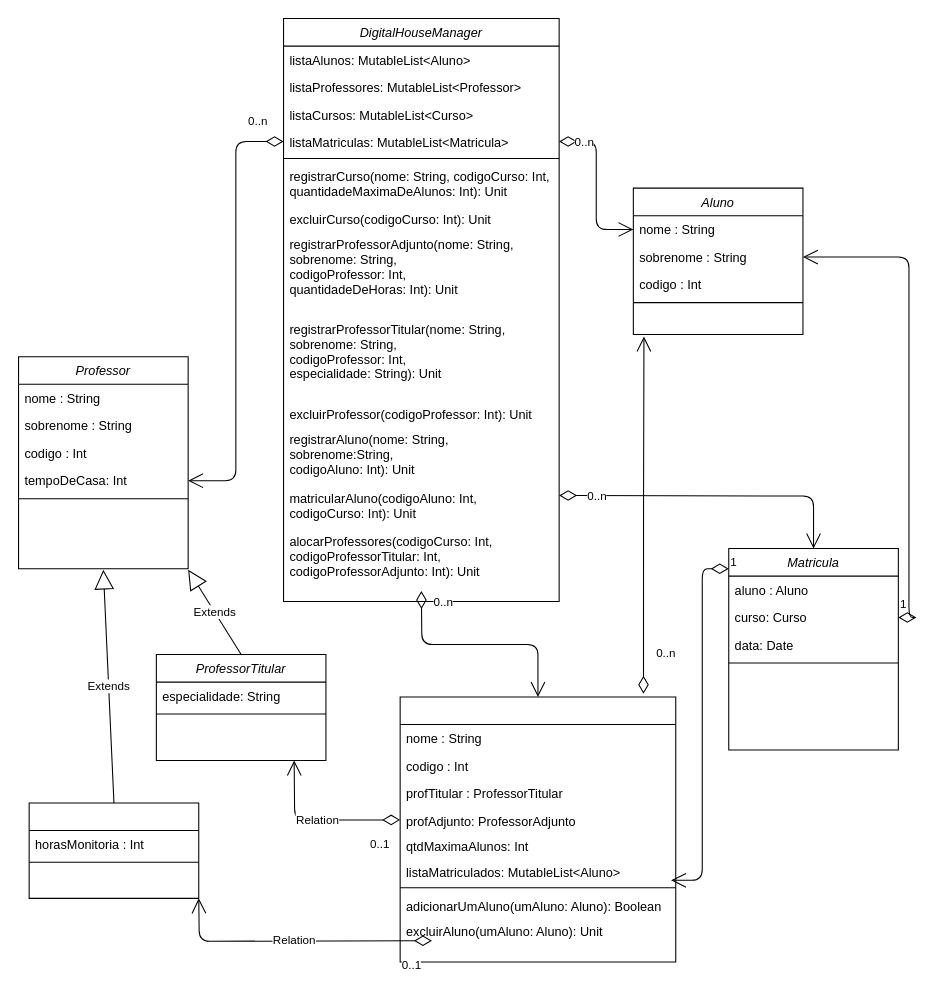
Some shapes in this 946 by 991 pixel diagram are drawn without their labels. Here are the shapes that lost their labels. From the top down, the box of each, then its label:
(399, 696, 676, 962): Curso
(28, 802, 199, 898): ProfessorAdjunto
